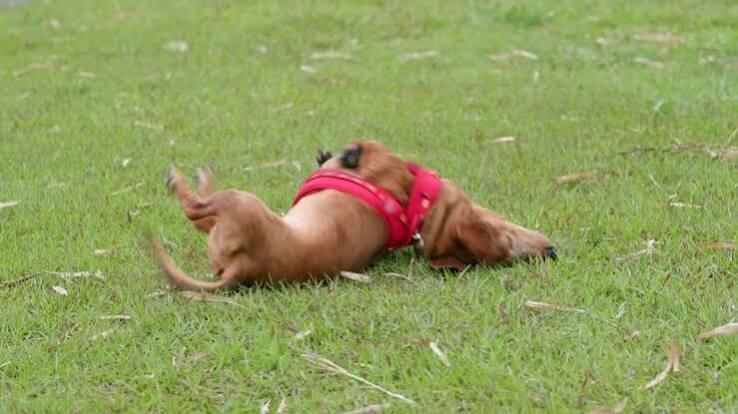adult_dog: (151, 143, 557, 291)
